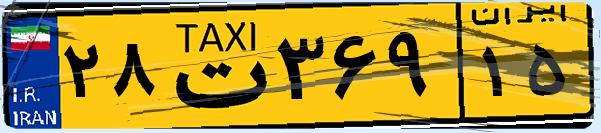1: (475, 38, 525, 113)
2: (57, 26, 110, 100)
3: (270, 28, 330, 110)
5: (525, 38, 570, 115)
6: (330, 28, 385, 110)
8: (110, 28, 158, 98)
9: (385, 28, 445, 110)
ت: (158, 12, 270, 120)
